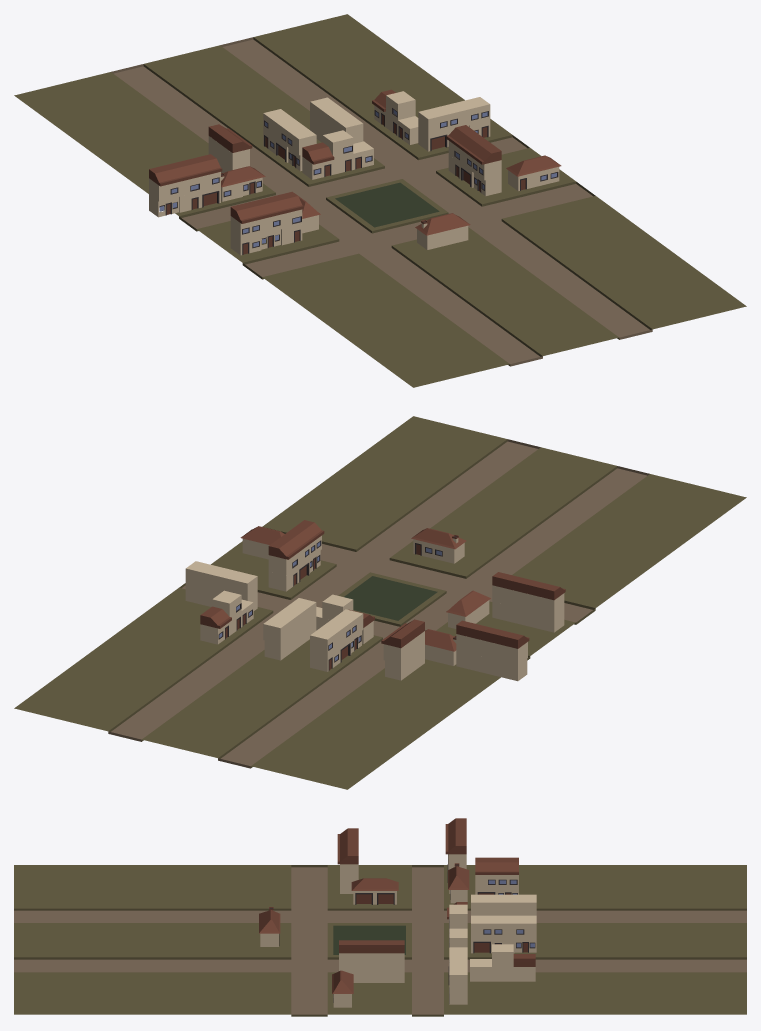
Rendered from map1.glb.
The picture shows the model from 3 angles, top to bottom: view 1: azimuth 30°, elevation 25°; view 2: azimuth 150°, elevation 25°; view 3: azimuth 270°, elevation 25°; orthographic projection. The views are drawn at different scales.
Visible parts, largest first — view 1: MAPA; view 2: MAPA; view 3: MAPA.
Boxes of the visible parts, x1=… form: MAPA: x1=14, y1=14, x2=746, y2=387; MAPA: x1=14, y1=416, x2=746, y2=789; MAPA: x1=14, y1=818, x2=746, y2=1016.
Size of the model in its own units: 34.1 by 4.16 by 67.15.
